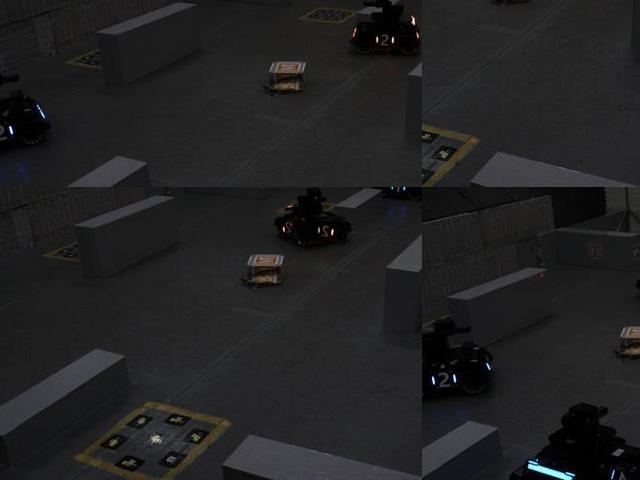armor: (425, 368, 459, 392), (371, 29, 400, 50), (0, 119, 21, 148), (314, 221, 341, 242), (607, 464, 638, 479), (279, 217, 298, 240), (388, 187, 408, 197)
